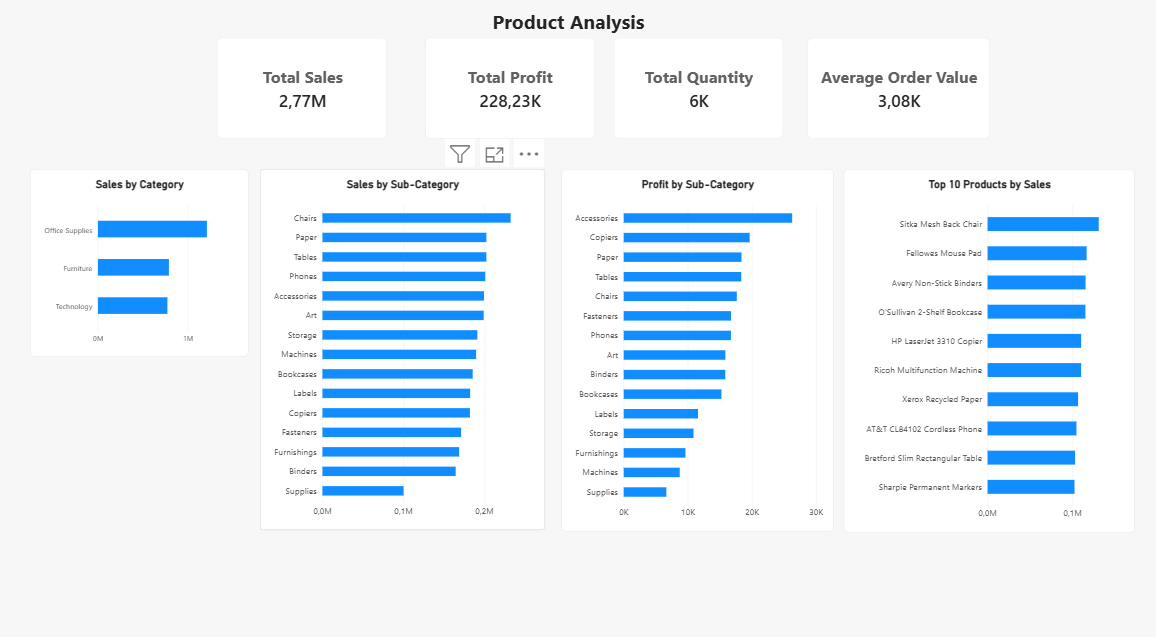

What the dashboard file says about the page in this screenshot:
{"tool":"powerbi","page":{"name":"Product Analysis","canvas":[1920,1080],"ordinal":1},"visuals":[{"type":"cardVisual","fields":{"Data":["FactSales.Total Sales"]},"box":[366.4,63.8,279.9,166.7],"z":0},{"type":"cardVisual","fields":{"Data":["FactSales.Total Profit"]},"box":[708.1,63.8,279.9,166.7],"z":1000},{"type":"cardVisual","fields":{"Data":["FactSales.Total Quantity"]},"box":[1018.9,63.8,279.9,166.7],"z":2000},{"type":"cardVisual","fields":{"Data":["FactSales.Average Order Value"]},"box":[1337.9,63.8,300.5,166.7],"z":3000},{"type":"textbox","box":[150,14,1588,50],"z":4000},{"type":"clusteredBarChart","title":"Sales by Category","fields":{"Category":["DimProduct.Category"],"Y":["FactSales.Total Sales"]},"box":[57.6,279.9,360.2,308.7],"z":5000},{"type":"clusteredBarChart","title":"Sales by Sub-Category","fields":{"Category":["DimProduct.Sub-Category"],"Y":["FactSales.Total Sales"]},"box":[436.4,279.9,469.3,594.9],"z":6000},{"type":"clusteredBarChart","title":"Profit by Sub-Category","fields":{"Category":["DimProduct.Sub-Category"],"Y":["FactSales.Total Profit"]},"box":[932.4,279.9,448.7,596.9],"z":7000},{"type":"clusteredBarChart","title":"Top 10 Products by Sales","fields":{"Category":["DimProduct.Product Name"],"Y":["FactSales.Total Sales"]},"box":[1397.6,279.9,479.6,599],"z":8000}]}

Visuals, with their boxes in screenshot pixels (x1, y1, x2, y2), scaled from the page's 1920x1080 canvas onto the 1156x637 screenshot:
cardVisual - FactSales.Total Sales: (221, 38, 389, 136)
cardVisual - FactSales.Total Profit: (426, 38, 595, 136)
cardVisual - FactSales.Total Quantity: (613, 38, 782, 136)
cardVisual - FactSales.Average Order Value: (806, 38, 986, 136)
textbox: (90, 8, 1046, 38)
"Sales by Category" clusteredBarChart: (35, 165, 252, 347)
"Sales by Sub-Category" clusteredBarChart: (263, 165, 545, 516)
"Profit by Sub-Category" clusteredBarChart: (561, 165, 832, 517)
"Top 10 Products by Sales" clusteredBarChart: (841, 165, 1130, 518)
